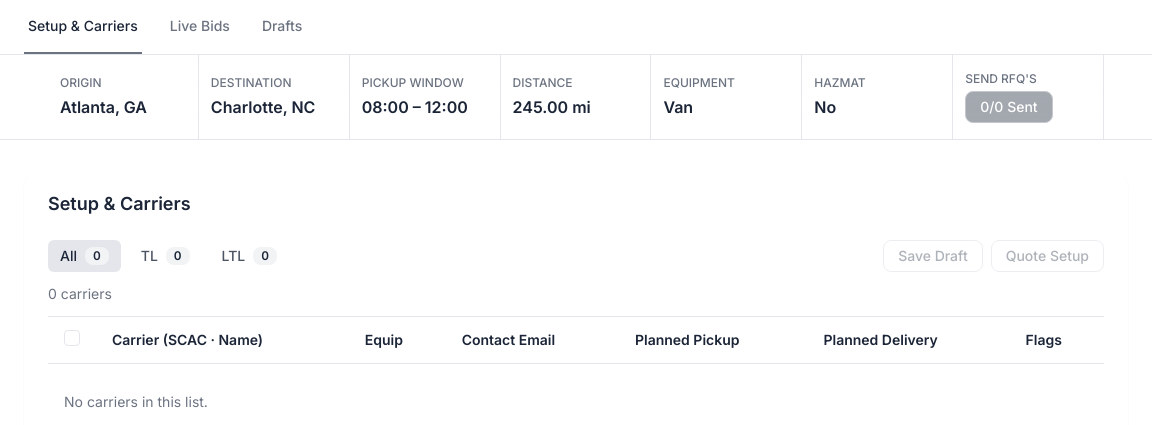
SpotBoardTab › Drafts › disables Restore while a quote is open
Click the button "Drafts". click: (282, 35)
box: [258,16,306,54]
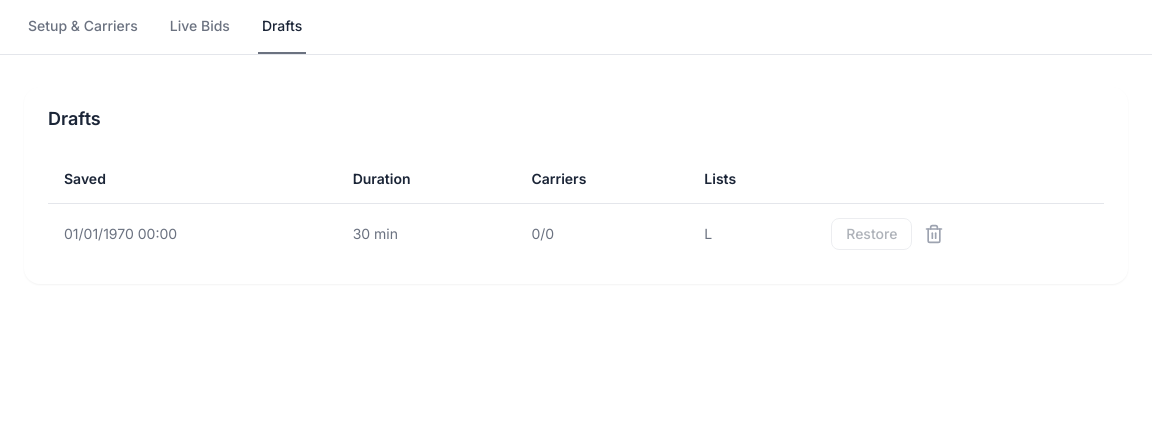
Expected: the button "Restore" is disabled, [831,218,912,250]
